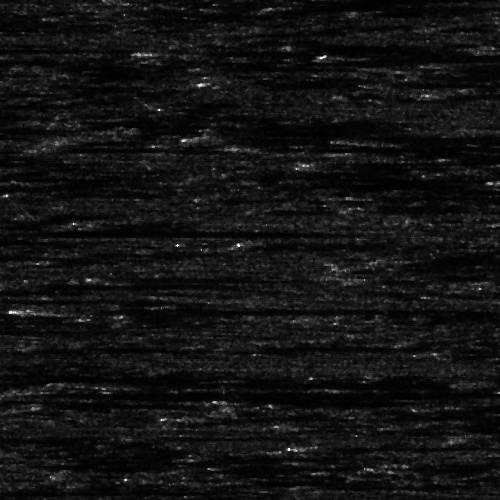object: (58, 40, 277, 57), (267, 437, 382, 452), (0, 382, 93, 399), (148, 412, 273, 421), (402, 56, 500, 67), (0, 304, 105, 313), (39, 378, 144, 387), (283, 156, 366, 167), (0, 279, 79, 290), (293, 51, 356, 60), (38, 139, 79, 150), (450, 43, 500, 52), (325, 136, 388, 143), (462, 175, 500, 184), (255, 2, 296, 7), (0, 486, 20, 491)
shadow: (5, 382, 433, 399), (168, 40, 500, 57), (43, 304, 410, 313), (92, 378, 405, 387), (324, 437, 459, 452), (38, 279, 222, 290), (324, 156, 500, 167), (324, 51, 500, 60), (0, 486, 247, 491), (211, 412, 342, 421), (275, 2, 475, 7), (357, 136, 494, 143), (0, 296, 160, 301), (0, 152, 65, 163), (59, 139, 122, 150), (0, 325, 90, 332), (459, 56, 500, 67), (482, 43, 500, 52), (0, 230, 11, 233)
